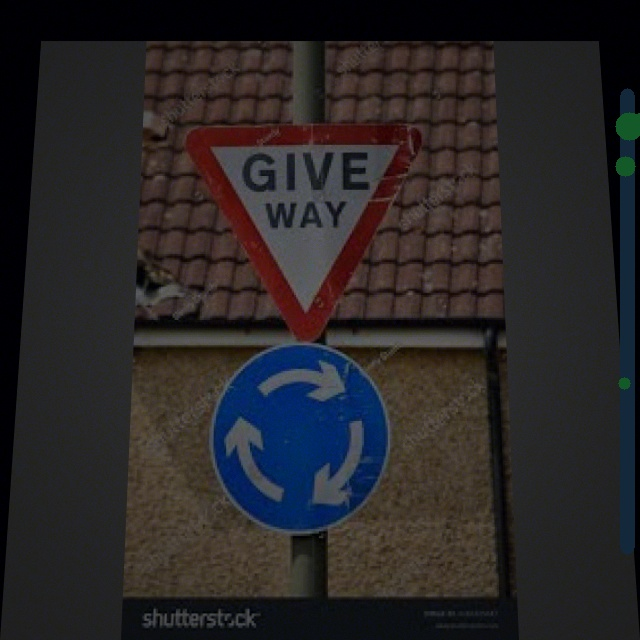Give_Way: (186, 125, 426, 344)
